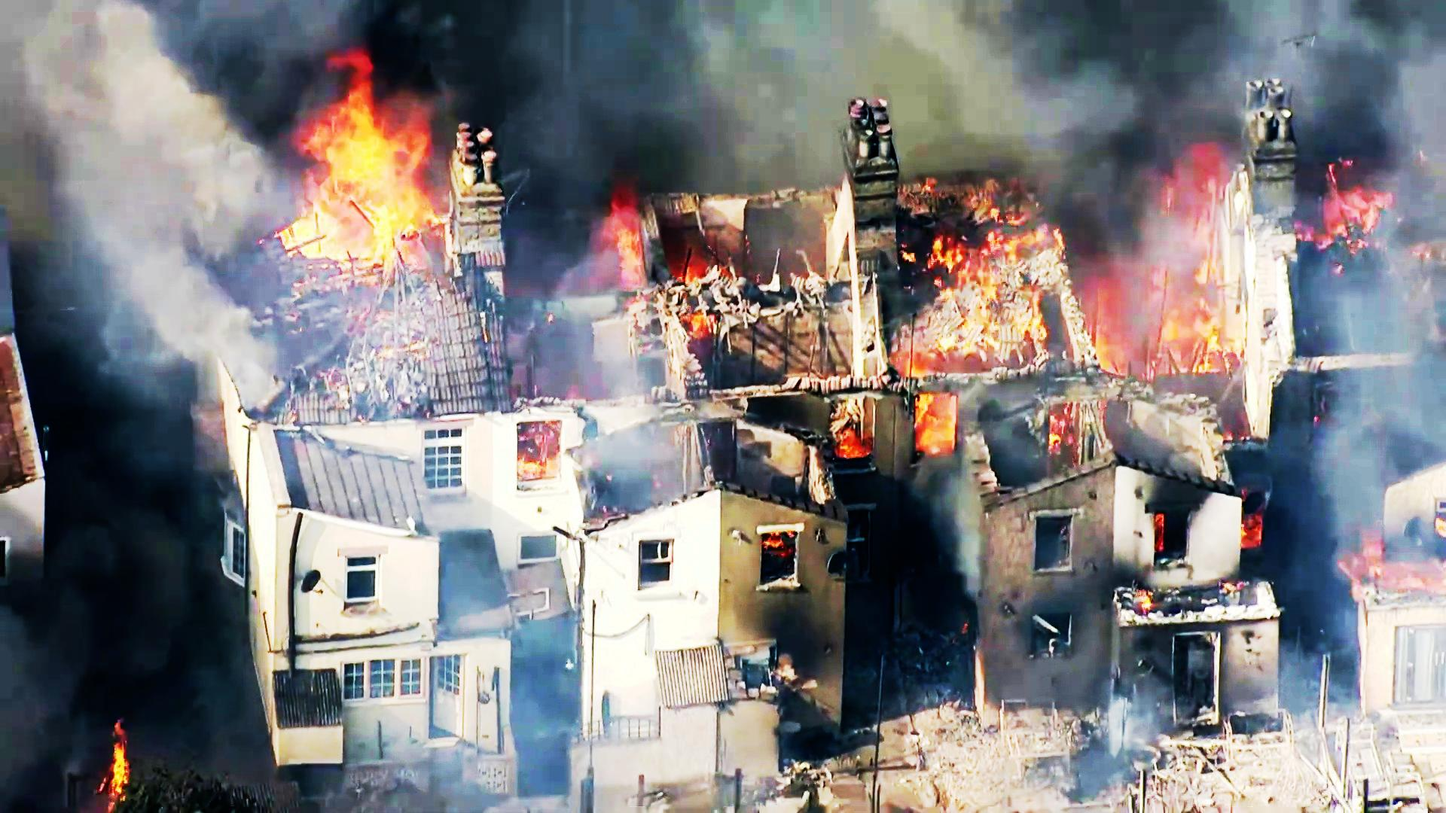fire: (251, 61, 458, 280), (1091, 168, 1247, 393), (891, 213, 1040, 372), (916, 396, 957, 455)
smoke: (0, 0, 192, 369), (34, 464, 241, 731), (584, 0, 801, 168), (961, 0, 1221, 110)
